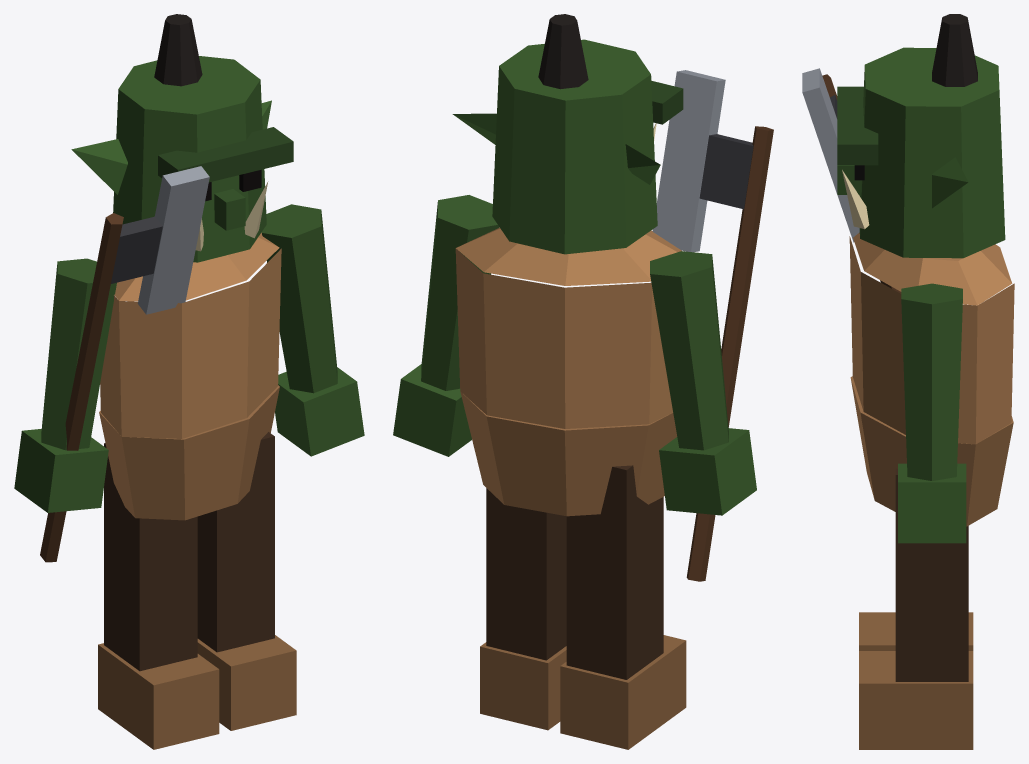
The model's file is orc.glb.
The picture shows the model from 3 angles, left to right: view 1: azimuth 30°, elevation 25°; view 2: azimuth 150°, elevation 25°; view 3: azimuth 270°, elevation 25°; orthographic projection. The views are drawn at different scales.
Parts seen in each view (by area): view 1: orc_torso, orc_head, orc_leg_r, orc_leg_l, orc_arm_l, orc_axe, orc_arm_r; view 2: orc_torso, orc_head, orc_leg_r, orc_arm_r, orc_leg_l, orc_axe, orc_arm_l; view 3: orc_head, orc_torso, orc_leg_l, orc_arm_l, orc_axe, orc_leg_r.
Part boxes in pixels (box(x1,y1,x2,y2)): orc_torso: box(99, 232, 281, 520); orc_head: box(71, 14, 293, 262); orc_leg_r: box(98, 443, 219, 749); orc_leg_l: box(197, 432, 296, 730); orc_arm_l: box(261, 204, 364, 456); orc_axe: box(40, 166, 209, 562); orc_arm_r: box(14, 258, 116, 512); orc_torso: box(455, 227, 681, 516); orc_head: box(452, 14, 683, 254); orc_leg_r: box(560, 465, 686, 749); orc_arm_r: box(650, 251, 756, 515); orc_leg_l: box(480, 488, 566, 730); orc_axe: box(652, 70, 773, 581); orc_arm_l: box(393, 195, 499, 456); orc_head: box(837, 14, 1005, 258); orc_torso: box(849, 232, 1014, 526); orc_leg_l: box(859, 468, 973, 749); orc_arm_l: box(898, 283, 966, 543); orc_axe: box(802, 68, 901, 293); orc_leg_r: box(859, 612, 973, 650).
Bounding box in the file's own units: 0.9441 × 1.93 × 0.5349.
